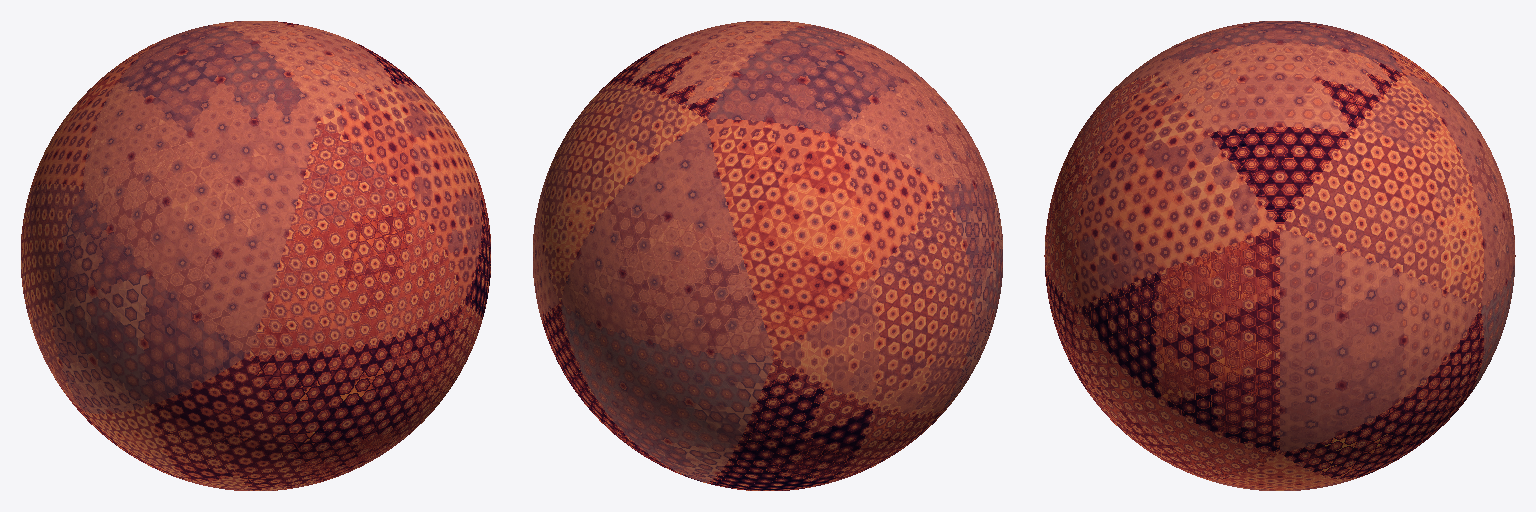
3 renders of one model, left to right at view 1: azimuth 30°, elevation 25°; view 2: azimuth 150°, elevation 25°; view 3: azimuth 270°, elevation 25°, orthographic.
Parts seen in each view (by area): view 1: Mesh_Object; view 2: Mesh_Object; view 3: Mesh_Object.
Boxes of the visible parts, x1=… form: Mesh_Object: x1=21, y1=21, x2=490, y2=490; Mesh_Object: x1=533, y1=21, x2=1002, y2=490; Mesh_Object: x1=1044, y1=21, x2=1515, y2=490.
Size of the model in its own units: 13.31 by 13.31 by 13.31.
1 materials, 1 textured.